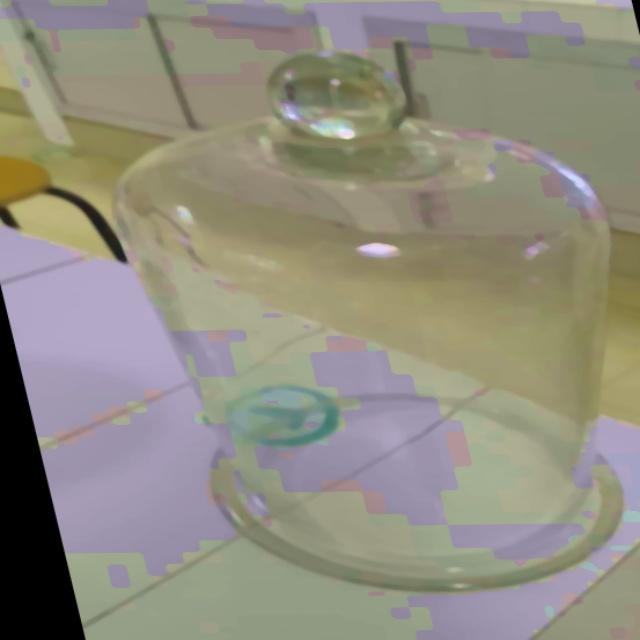Gas Bottle: (51, 45, 640, 600)
